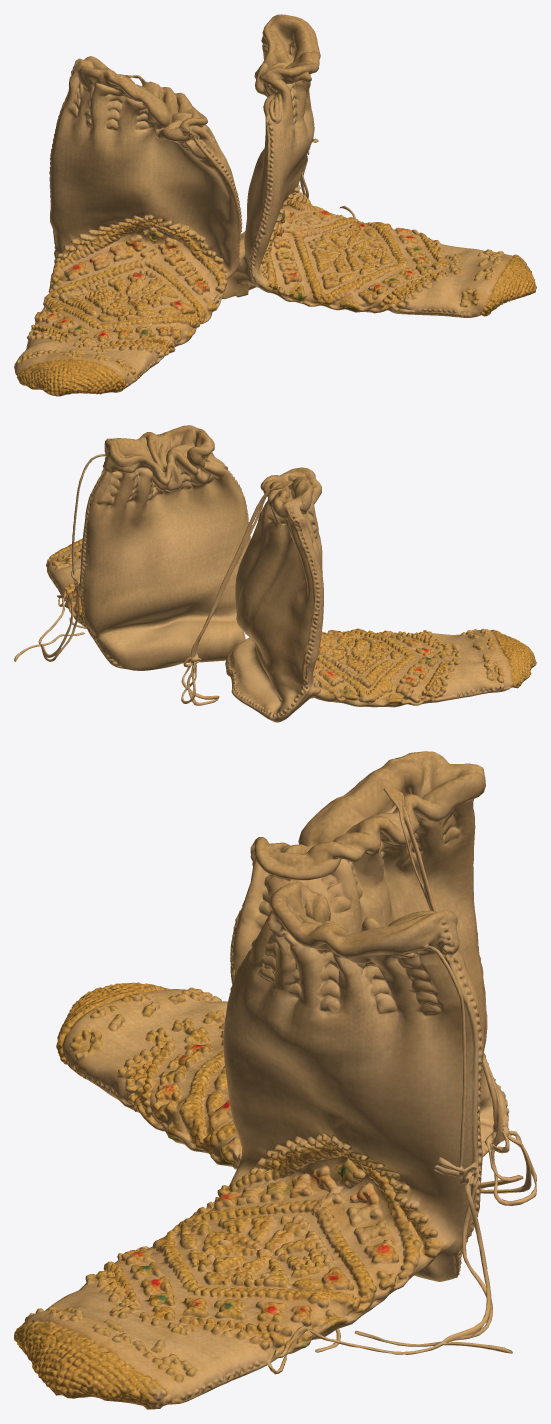
File: carape.glb
The picture shows the model from 3 angles, top to bottom: view 1: azimuth 30°, elevation 25°; view 2: azimuth 150°, elevation 25°; view 3: azimuth 270°, elevation 25°; orthographic projection. The views are drawn at different scales.
Size of the model in its own units: 1.9 by 0.8394 by 1.05.
Materials: 1 (1 with a texture image).
